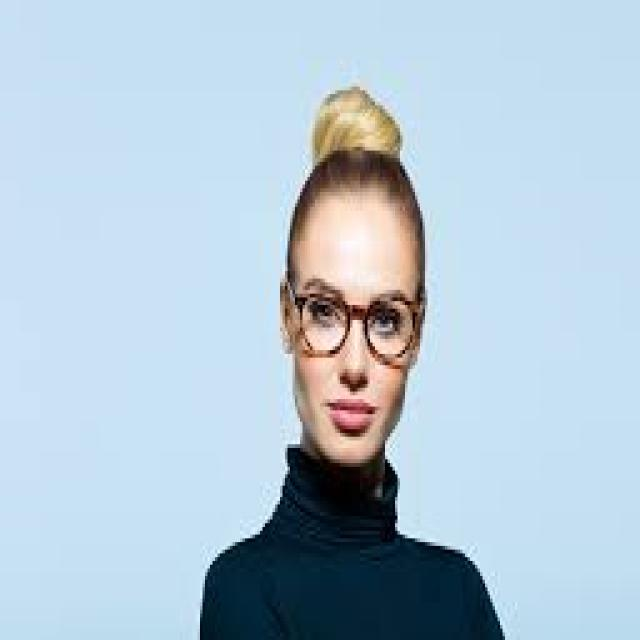Glasses: (280, 265, 433, 371)
